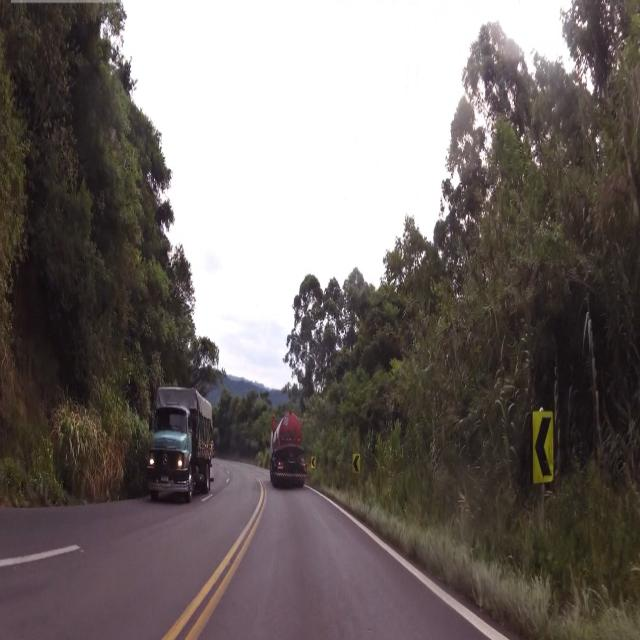Del: (526, 405, 561, 488)
